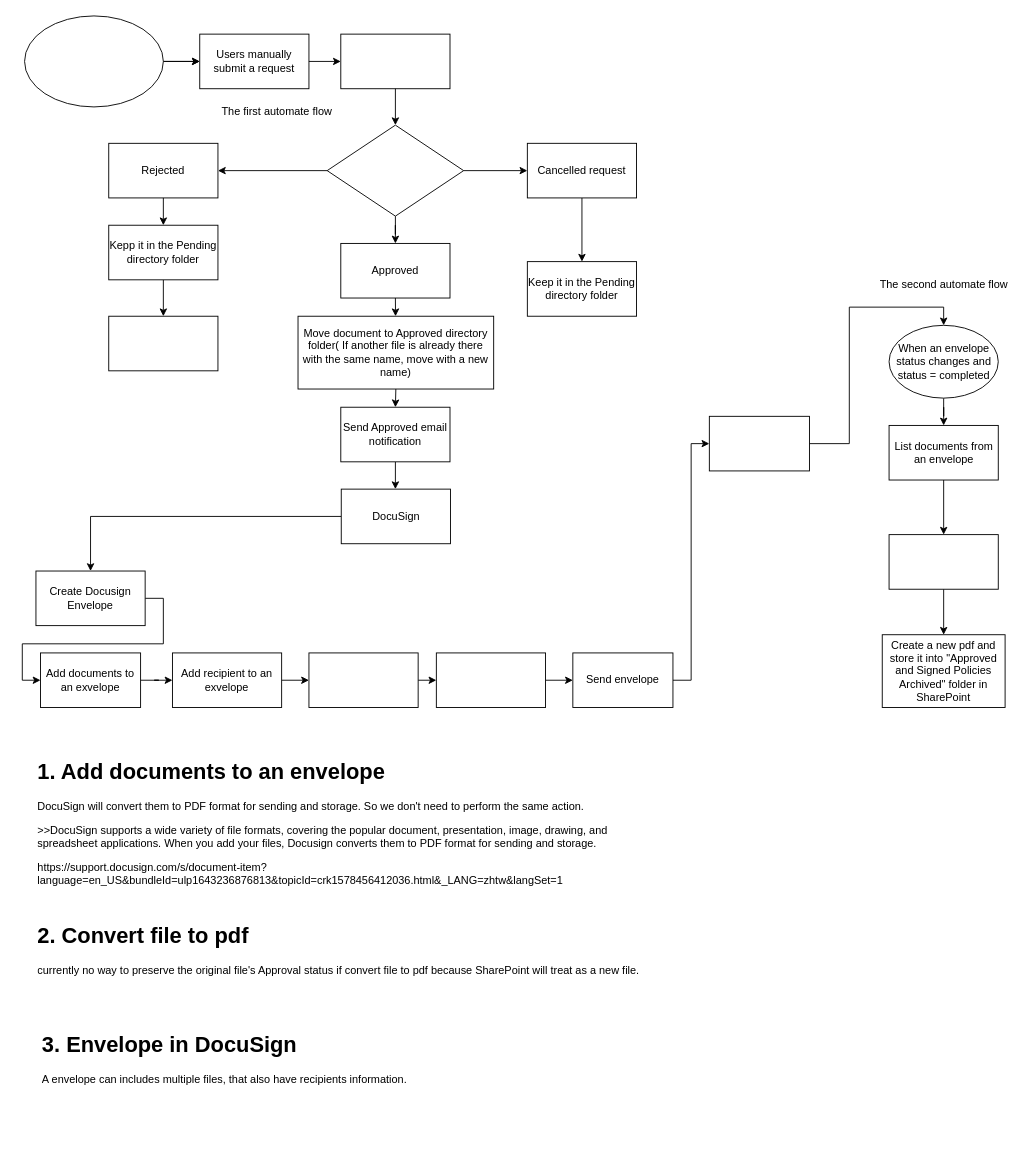
The diagram is 1032 pixels wide and 1154 high, and some of its shapes have lost their labels. The shapes that lost their labels are listed below. From the top down, each one's centre as x and y in pixels, then its label:
At (93,61): "Upload a document file to Pending Policies directory folder".
At (395,61): "send an email notification to Approvers".
At (395,170): "If Users clicked Approve / Reject / Cancel request button".
At (163,343): "Send rejected email notification".
At (758,443): "Waiting for approvers approve".
At (943,561): "Get documents from an evelope".
At (363,680): "Add tags to an envelope".
At (490,680): "Add documents to an envelope".
